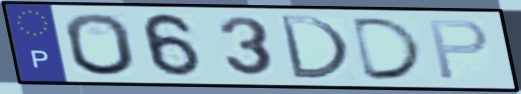3: (216, 15, 275, 79)
6: (139, 11, 207, 80)
D: (275, 13, 354, 82), (349, 15, 429, 82)
O: (62, 11, 140, 78)
P: (426, 18, 492, 83)
